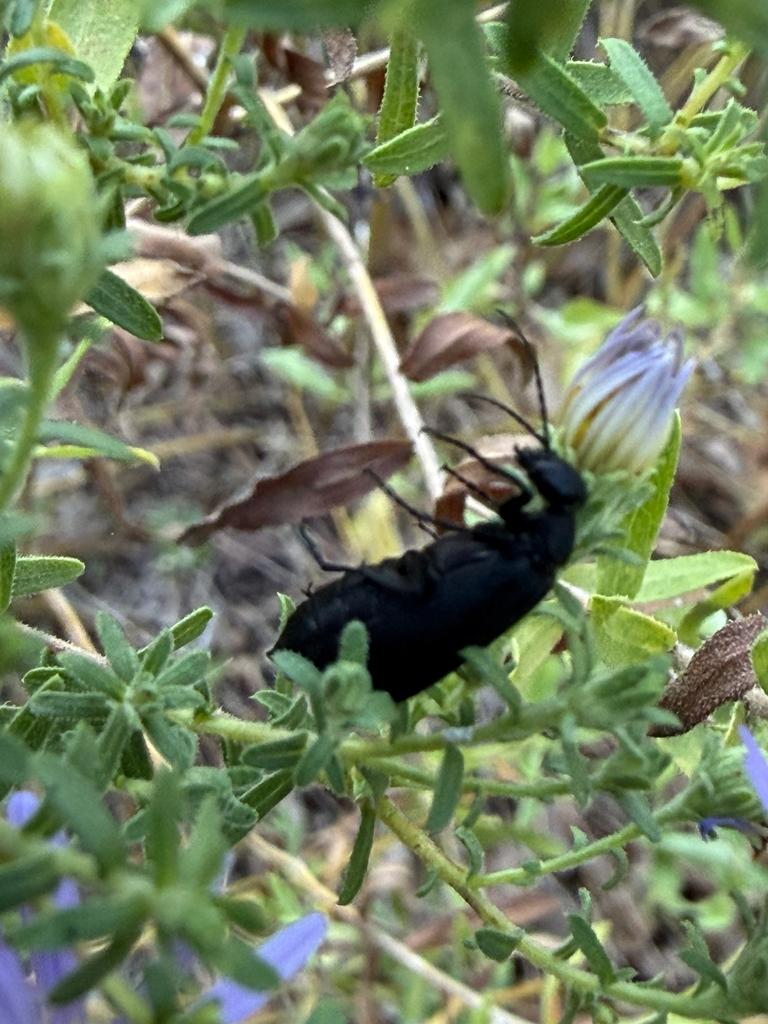blister_beetle: (208, 276, 691, 840)
